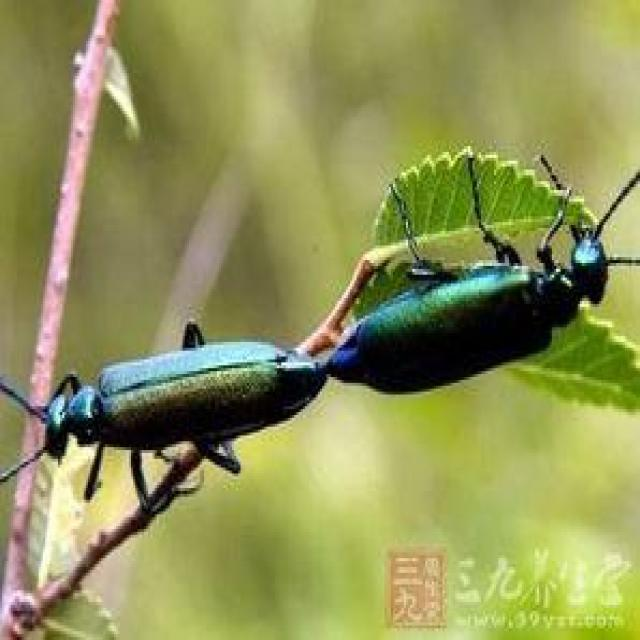BlisterBeetle-Adult-: (327, 146, 635, 404), (5, 307, 333, 512)
